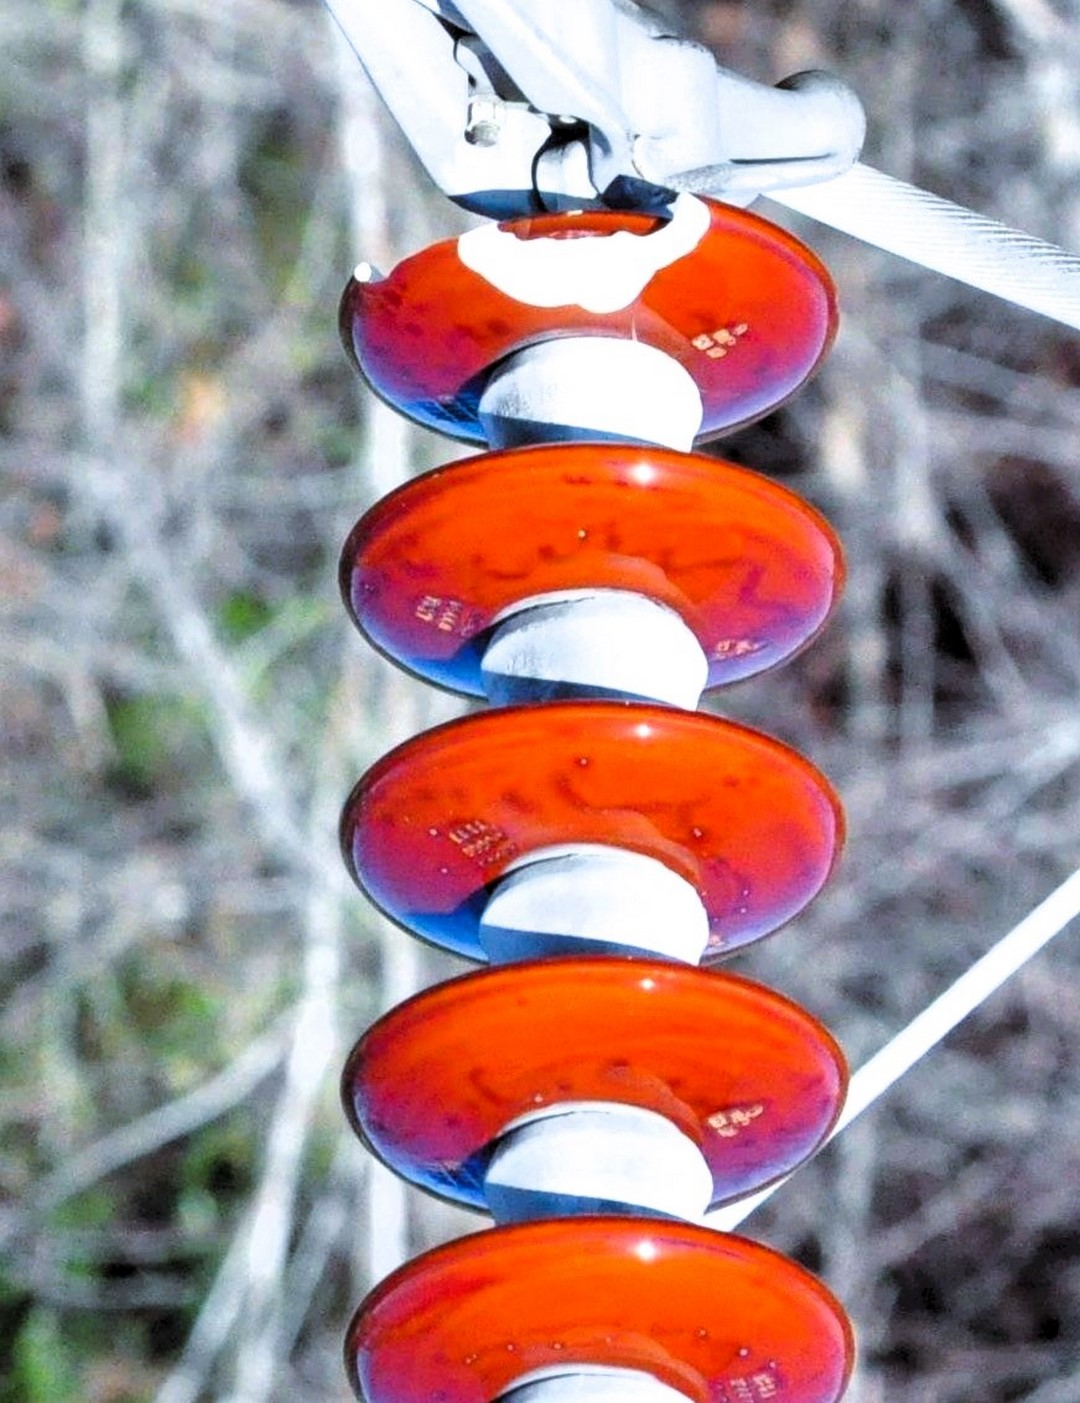insulator breakage: (290, 174, 867, 448)
